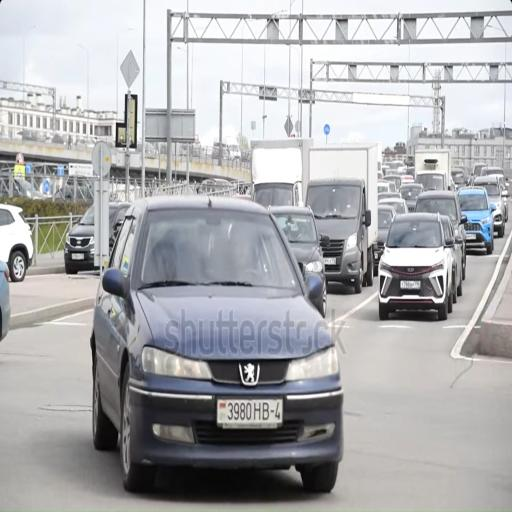License plates: (217, 399, 282, 428), (401, 281, 420, 289), (324, 258, 336, 265), (72, 253, 84, 260), (466, 234, 476, 239), (374, 252, 378, 259)
